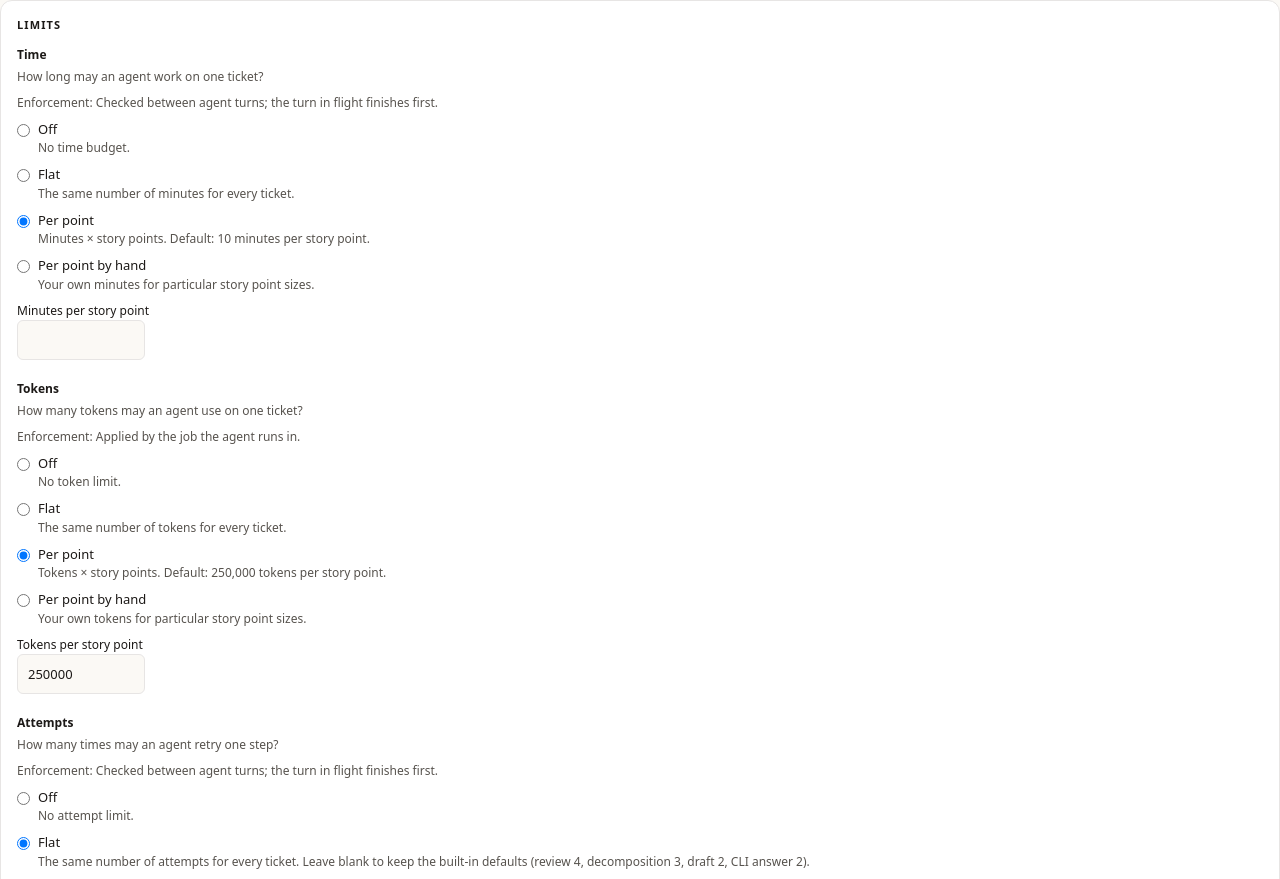
Test: RunTimeBudgetSection › shows the flat input only in flat mode and the table only in by-hand mode
Click the radio button labelled "Flat": click(24, 176) 17,169 -> 30,182
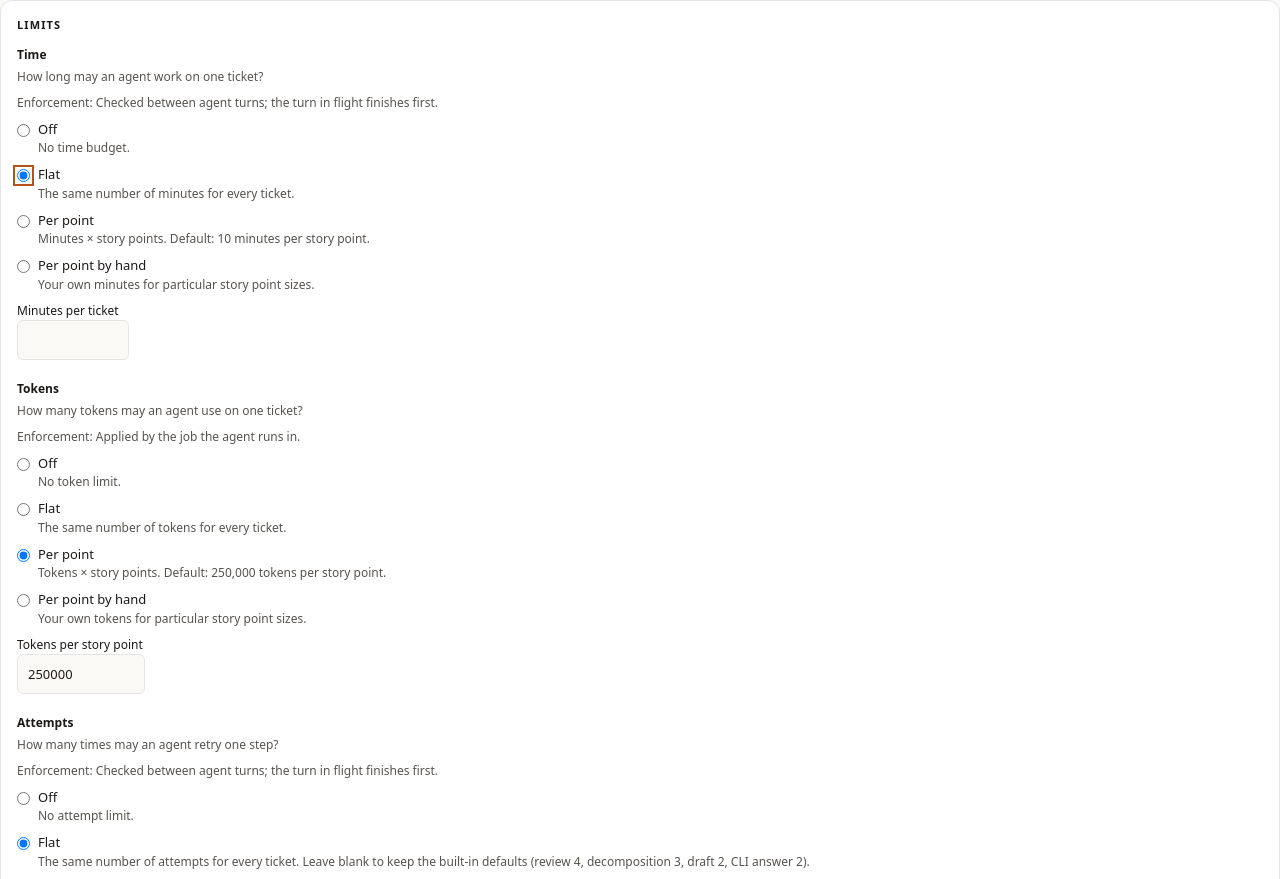
Expected: the field labelled "Minutes per ticket" is shown, 17,320 -> 129,360
Expected: the button "Add row" is not shown
Click the radio button labelled "Per point by hand": click(24, 266) 17,260 -> 30,273
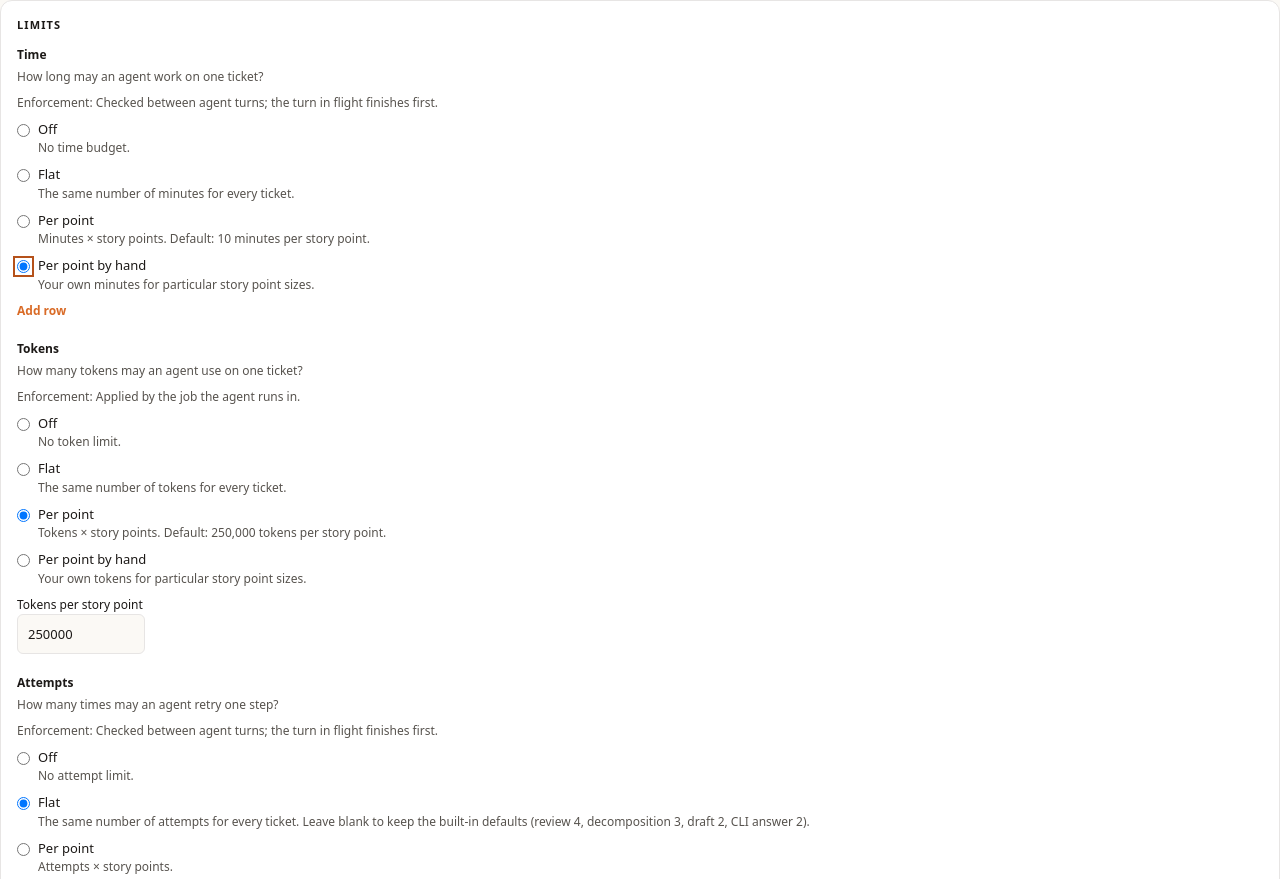
Result: the label labelled "Minutes per ticket" is gone
Result: the button "Add row" is shown at 17,302 -> 66,320
